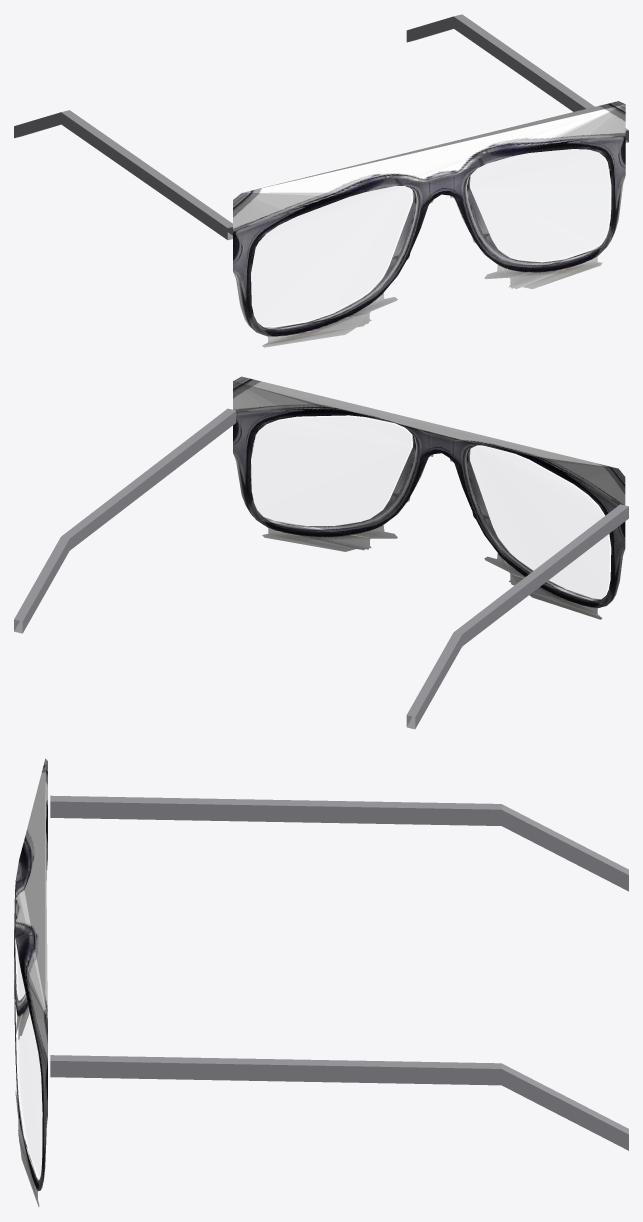
File: gothamstyle-250_crystal-grey.glb
3 renders of one model, top to bottom at view 1: azimuth 30°, elevation 25°; view 2: azimuth 150°, elevation 25°; view 3: azimuth 270°, elevation 25°, orthographic. The views are drawn at different scales.
Parts seen in each view (by area): view 1: frame_front, temple_viewer_left, temple_viewer_right; view 2: frame_front, temple_viewer_left, temple_viewer_right; view 3: temple_viewer_right, temple_viewer_left, frame_front.
Boxes of the visible parts, <box> form: frame_front: <box>233,101,625,347</box>; temple_viewer_left: <box>14,110,232,240</box>; temple_viewer_right: <box>406,14,628,142</box>; frame_front: <box>233,376,625,619</box>; temple_viewer_left: <box>406,504,628,729</box>; temple_viewer_right: <box>14,408,236,633</box>; temple_viewer_right: <box>50,1055,628,1150</box>; temple_viewer_left: <box>50,795,628,891</box>; frame_front: <box>14,758,47,1207</box>.
Bounding box in the file's own units: 0.1387 × 0.0524 × 0.136.
Materials: 3 (2 with a texture image).
